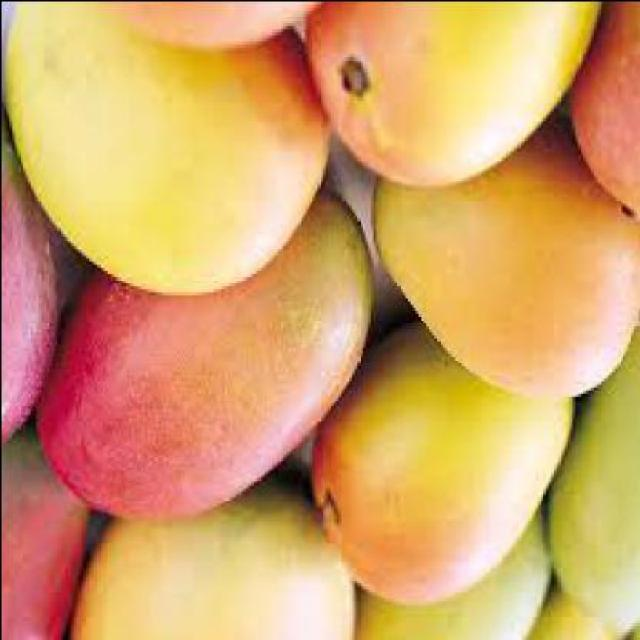BIODEGRADABLE: (39, 198, 371, 516), (6, 5, 329, 294), (375, 116, 640, 395), (315, 322, 572, 602), (302, 3, 599, 186), (72, 484, 352, 640), (551, 329, 640, 636), (357, 515, 550, 640), (2, 429, 88, 640), (1, 128, 59, 440), (572, 4, 639, 216), (108, 4, 316, 49)
